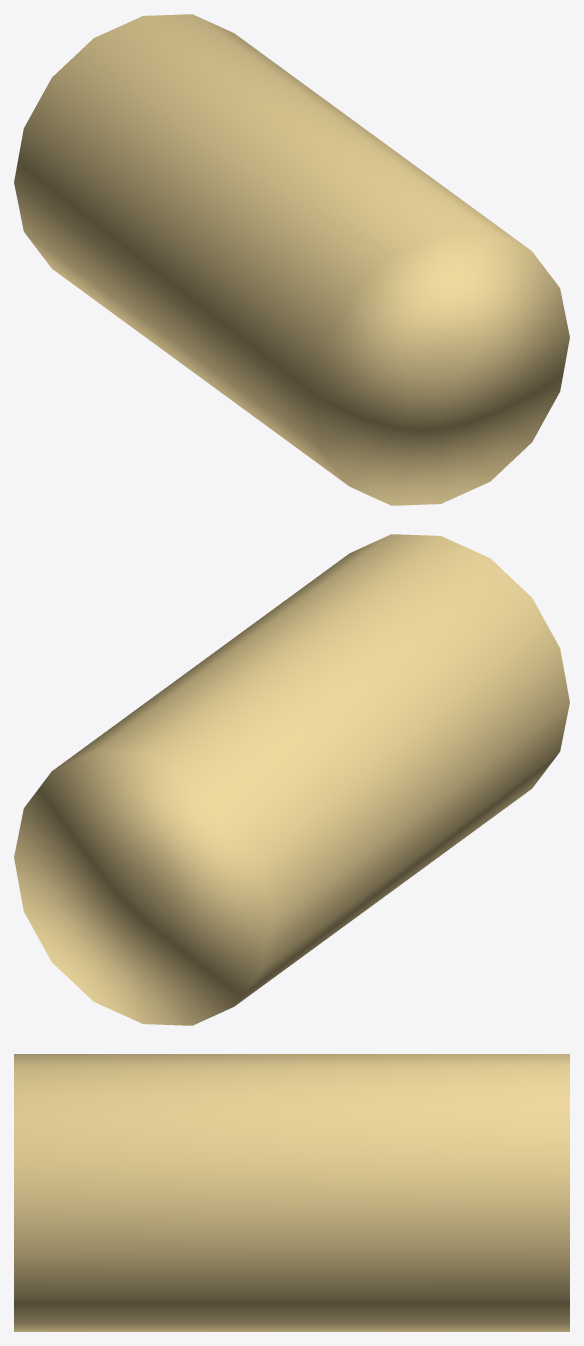
File: plinko-peg.glb
3 views of the same model, one above another, from view 1: azimuth 30°, elevation 25°; view 2: azimuth 150°, elevation 25°; view 3: azimuth 270°, elevation 25° (orthographic). The views are drawn at different scales.
Visible parts, largest first — view 1: peg; view 2: peg; view 3: peg.
Part boxes in pixels (x1=…): peg: x1=14, y1=14, x2=569, y2=505; peg: x1=14, y1=534, x2=569, y2=1025; peg: x1=14, y1=1054, x2=569, y2=1331.
Bounding box in the file's own units: 0.07 × 0.07 × 0.14.
